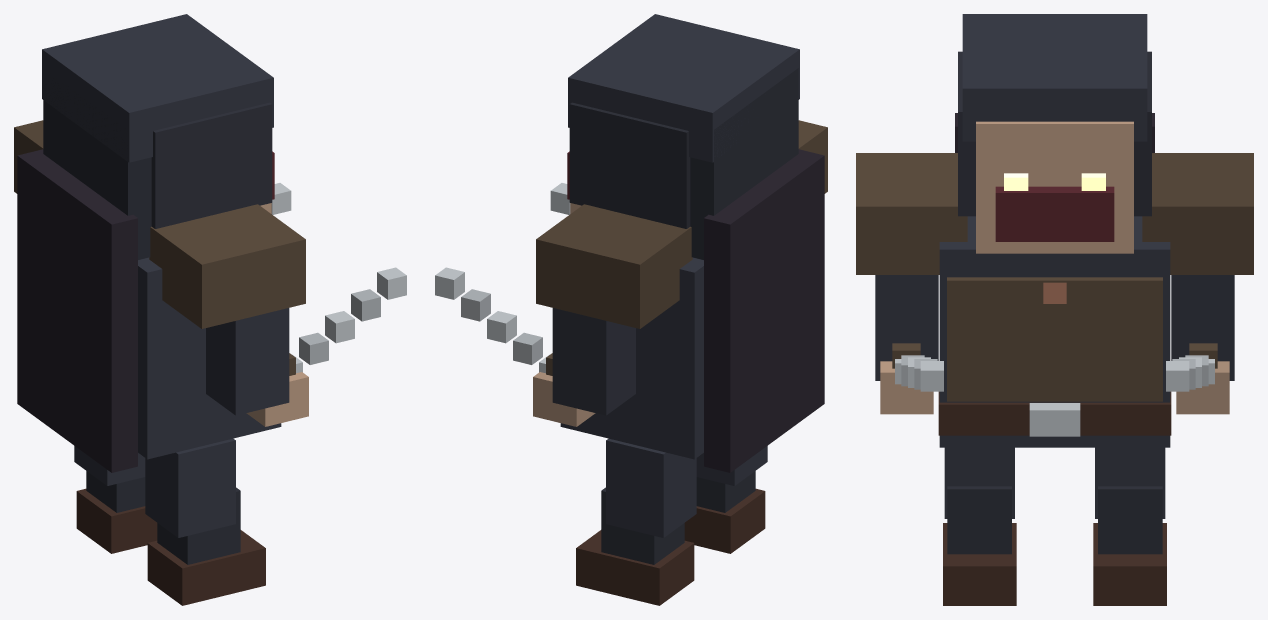
Rendered from bandit-cutthroat.glb.
3 renders of one model, left to right at view 1: azimuth 30°, elevation 25°; view 2: azimuth 150°, elevation 25°; view 3: azimuth 270°, elevation 25°, orthographic. The views are drawn at different scales.
Visible parts, largest first — view 1: Hood, Cloak, Boots, Shoulders, Torso, Arms, Weapon, Hands; view 2: Hood, Cloak, Boots, Shoulders, Torso, Arms, Weapon, Hands; view 3: Armor, Shoulders, Hood, Boots, Head, Torso, Arms, Mask, Hands, Weapon, Trim, Eyes (+1 smaller).
Boxes of the visible parts, x1=… form: Hood: x1=42, y1=14, x2=273, y2=259; Cloak: x1=17, y1=149, x2=137, y2=472; Boots: x1=74, y1=438, x2=265, y2=605; Shoulders: x1=14, y1=120, x2=305, y2=328; Torso: x1=138, y1=257, x2=281, y2=459; Arms: x1=206, y1=308, x2=289, y2=415; Weapon: x1=271, y1=183, x2=406, y2=373; Hands: x1=246, y1=372, x2=308, y2=426; Hood: x1=568, y1=14, x2=799, y2=259; Cloak: x1=704, y1=149, x2=824, y2=472; Boots: x1=576, y1=438, x2=767, y2=605; Shoulders: x1=536, y1=120, x2=827, y2=328; Torso: x1=560, y1=257, x2=703, y2=459; Arms: x1=552, y1=308, x2=635, y2=415; Weapon: x1=435, y1=183, x2=570, y2=373; Hands: x1=533, y1=372, x2=595, y2=426; Armor: x1=938, y1=277, x2=1171, y2=435; Shoulders: x1=856, y1=153, x2=1253, y2=274; Hood: x1=958, y1=14, x2=1151, y2=216; Boots: x1=943, y1=447, x2=1166, y2=605; Head: x1=976, y1=121, x2=1133, y2=253; Torso: x1=939, y1=216, x2=1170, y2=447; Arms: x1=875, y1=275, x2=1234, y2=380; Mask: x1=995, y1=186, x2=1114, y2=241; Hands: x1=880, y1=361, x2=1229, y2=414; Weapon: x1=895, y1=355, x2=1214, y2=391; Trim: x1=1029, y1=282, x2=1080, y2=436; Eyes: x1=1004, y1=173, x2=1105, y2=190.
Bounding box in the file's own units: 2.64 × 4.5 × 3.08.
